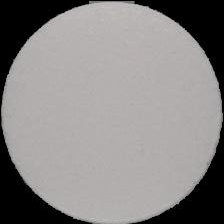35356-303: (0, 0, 224, 224)
